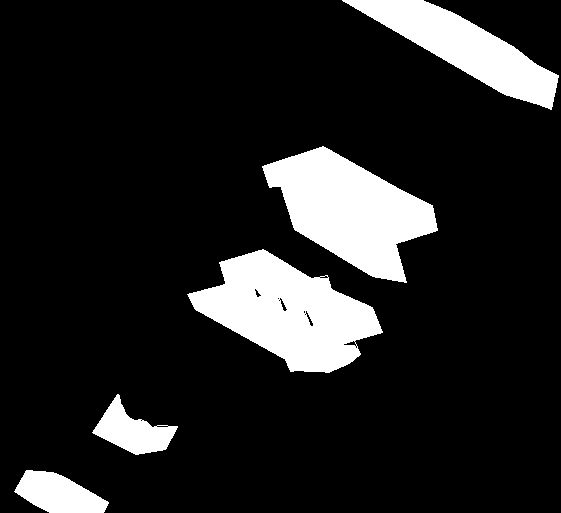parkingspot: (342, 0, 558, 109), (262, 146, 437, 244), (187, 277, 360, 372), (219, 249, 382, 345), (279, 176, 406, 282), (92, 394, 177, 454), (14, 470, 108, 513)
